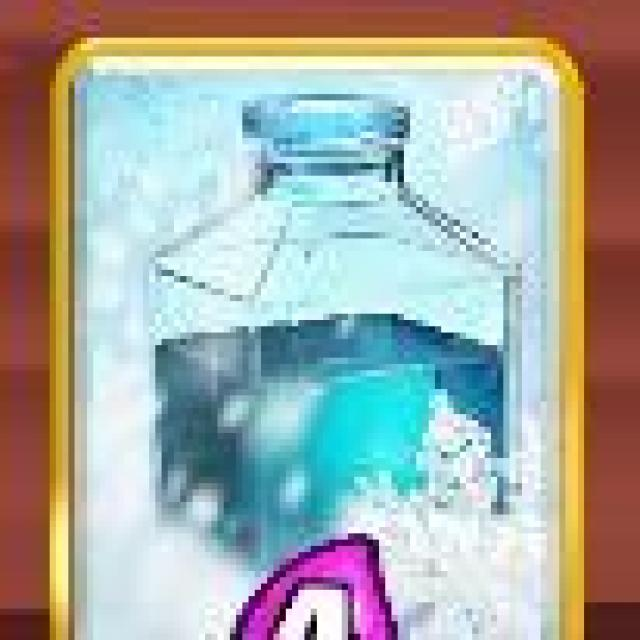Freeze: (51, 39, 587, 640)
